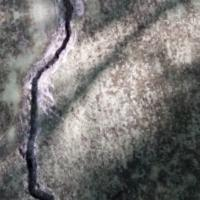crack: (13, 0, 91, 199)
